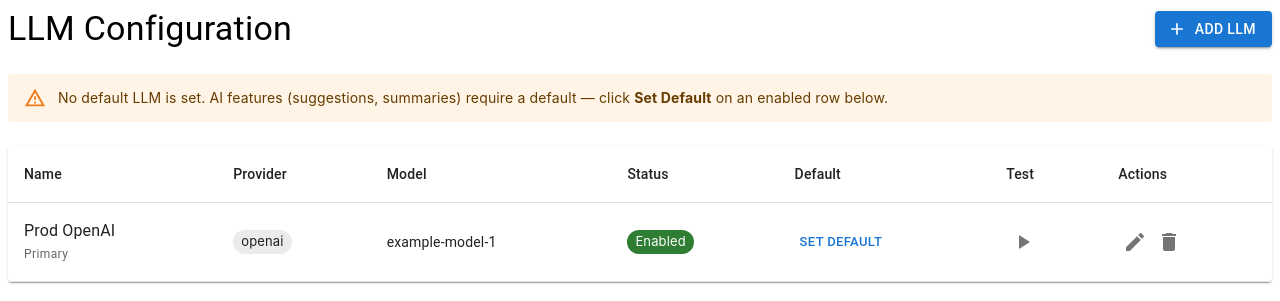
Scenario: LLMConfiguration — delete / default / test › deletes a config after confirmation
Expected: the text "Prod OpenAI" is shown, [24, 221, 115, 240]
What coordinates should you click on to do the following:
click the button with test id "DeleteIcon"
I would click on:
 (1169, 242)
Its box is [1152, 225, 1186, 259].
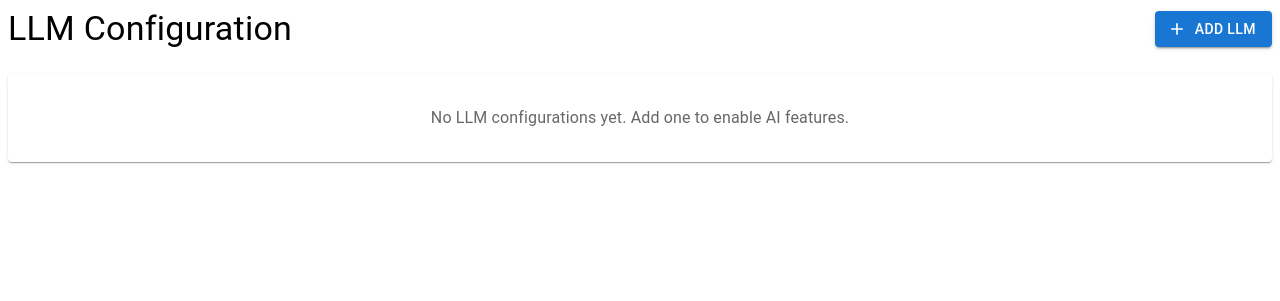
Expected: the text "No LLM configurations yet. Add one to enable AI features." is shown, [431, 108, 849, 127]
